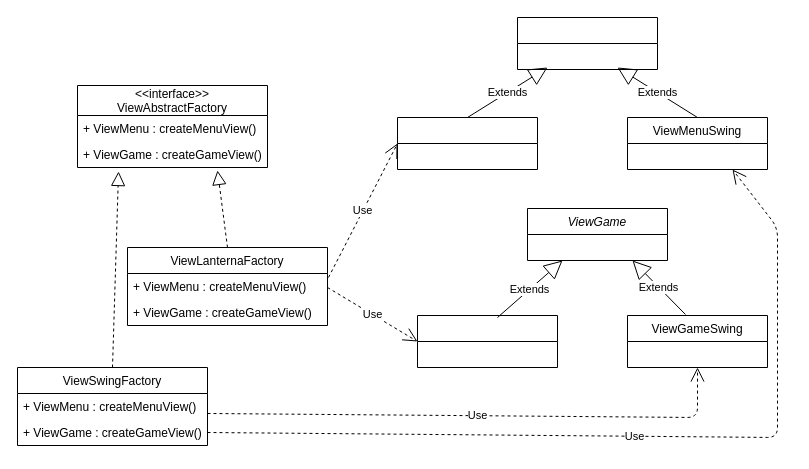
Image size: 809x469. Some labels were removed from this diagram. The shapes that lost their labels are listed below. From the top down, each one's centre as x and y in pixels, then its label:
At point 587,43: "ViewMenu".
At point 467,143: "ViewMenuLanterna".
At point 487,341: "ViewGameLanterna".
